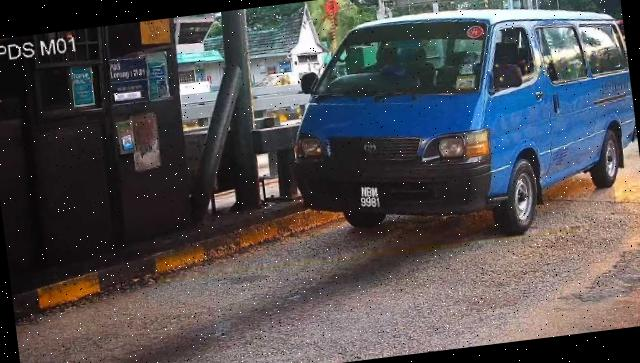License_Plate: (354, 178, 389, 215)
van: (276, 1, 640, 261)
